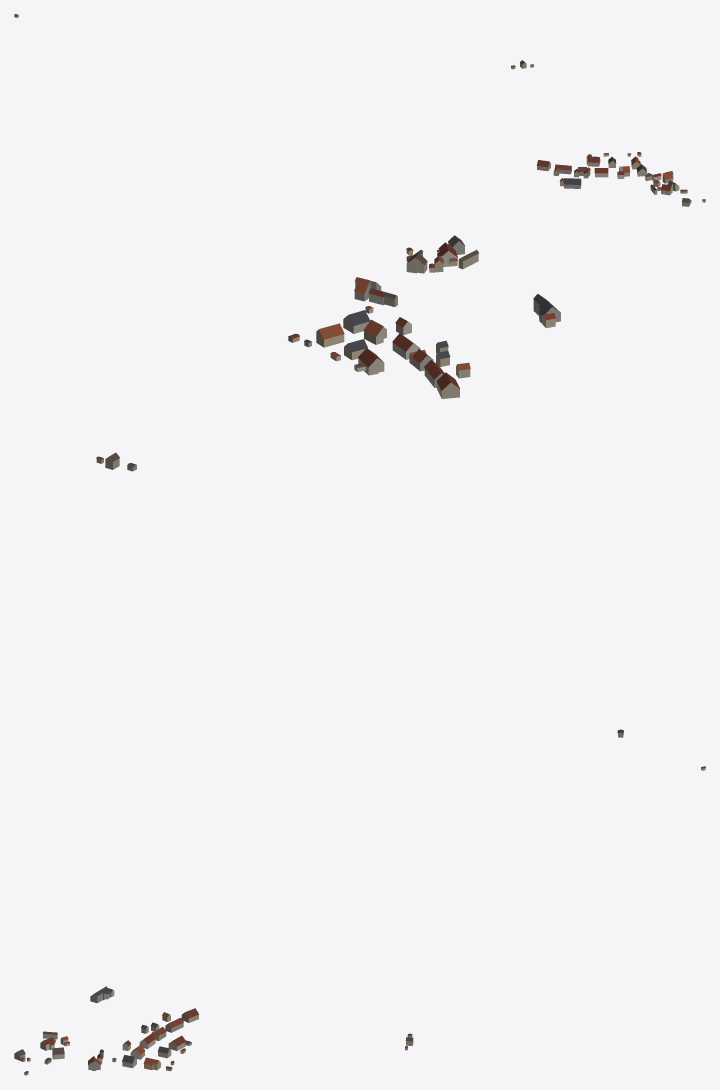
The picture shows the model from 3 angles, top to bottom: view 1: azimuth 30°, elevation 25°; view 2: azimuth 150°, elevation 25°; view 3: azimuth 270°, elevation 25°; orthographic projection. The views are drawn at different scales.
Visible parts, largest first — view 1: buildings; view 2: buildings; view 3: buildings.
Boxes of the visible parts, box(x1,y1,x2,y2) form: buildings: box(14, 14, 705, 206); buildings: box(96, 235, 623, 737); buildings: box(14, 766, 705, 1075).
Size of the model in its own units: 597 by 103 by 768.
